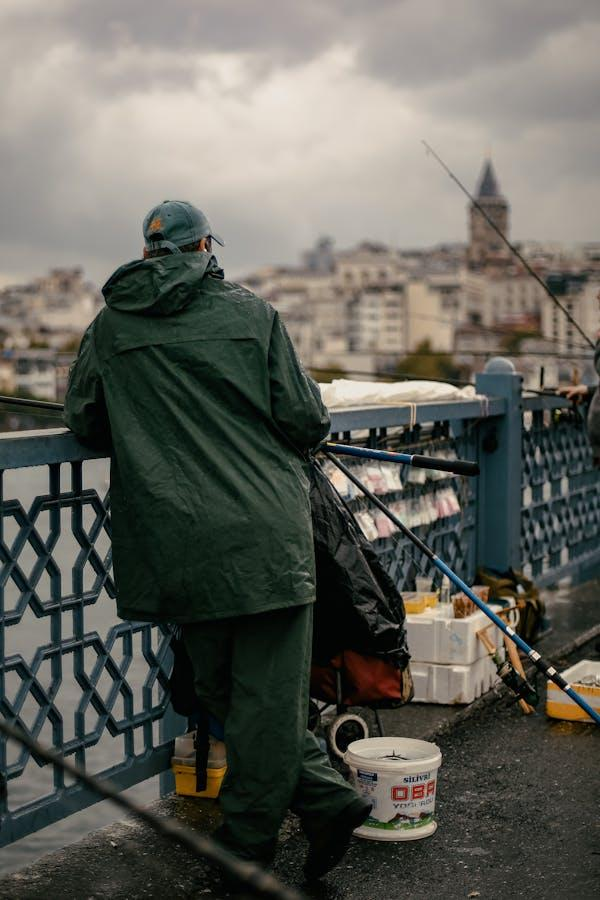Human: (78, 163, 334, 889)
